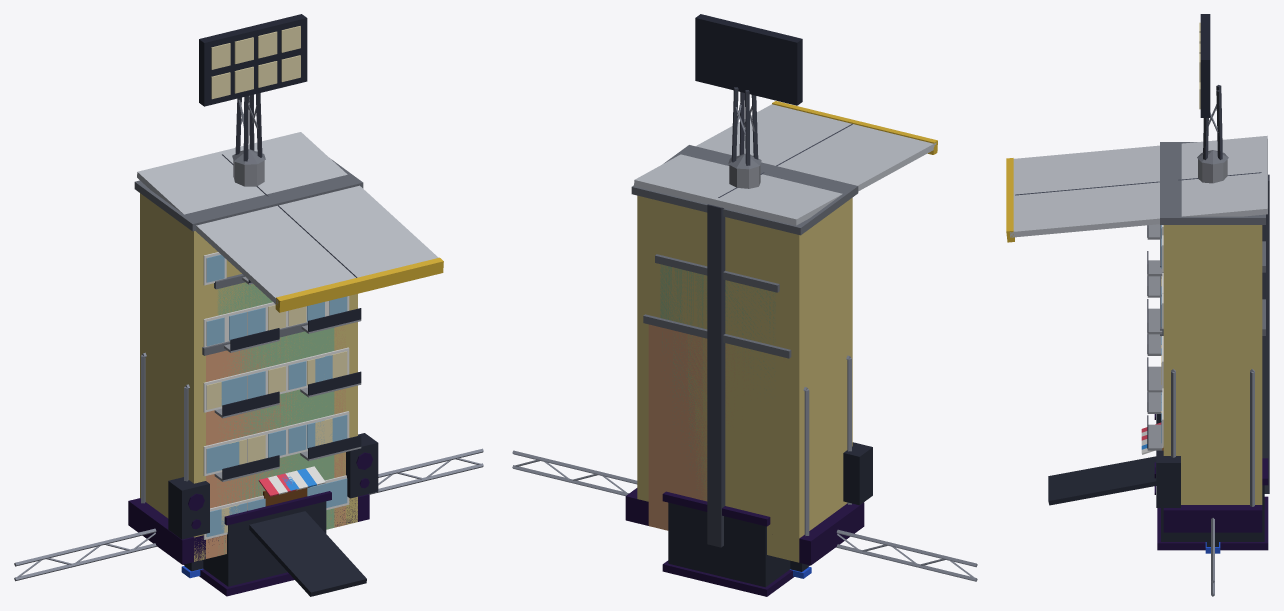
The model's file is arena-CK2rH1Si.glb.
3 renders of one model, left to right at view 1: azimuth 30°, elevation 25°; view 2: azimuth 150°, elevation 25°; view 3: azimuth 270°, elevation 25°, orthographic. The views are drawn at different scales.
Visible parts, largest first — view 1: bairro/building1, mundial/roof, bairro/building2, mundial/stage, bairro/building0, mundial/tower, nacional/cube, cidade/truss; view 2: bairro/building1, mundial/roof, bairro/building0, mundial/tower, nacional/cube, mundial/stage, bairro/building2, cidade/truss; view 3: bairro/building1, mundial/roof, mundial/stage, nacional/cube, mundial/tower, bairro/building2, bairro/building0.
Boxes of the visible parts, box(x1,y1,x2,y2) form: bairro/building1: box(134, 149, 363, 561); mundial/roof: box(137, 132, 443, 312); bairro/building2: box(214, 274, 338, 555); mundial/stage: box(128, 352, 378, 596); bairro/building0: box(202, 322, 346, 558); mundial/tower: box(199, 14, 307, 161); nacional/cube: box(183, 491, 331, 596); cidade/truss: box(14, 448, 483, 581); bairro/building1: box(631, 145, 858, 562); mundial/roof: box(634, 101, 937, 547); bairro/building0: box(643, 314, 791, 530); mundial/tower: box(695, 14, 802, 165); nacional/cube: box(662, 491, 809, 596); mundial/stage: box(625, 355, 872, 565); bairro/building2: box(655, 254, 779, 489); cidade/truss: box(512, 450, 977, 581); bairro/building1: box(1141, 142, 1265, 504); mundial/roof: box(1006, 135, 1269, 493); mundial/stage: box(1048, 369, 1262, 532); nacional/cube: box(1157, 458, 1268, 550); mundial/tower: box(1199, 14, 1222, 159); bairro/building2: box(1147, 225, 1265, 438); bairro/building0: box(1141, 276, 1265, 444).
Bounding box in the file's own units: 20.03 × 22.25 × 10.67.
